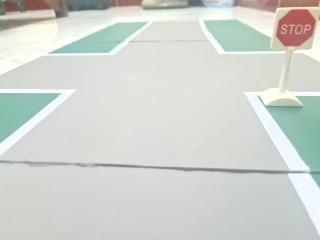stop: (270, 3, 319, 55)
